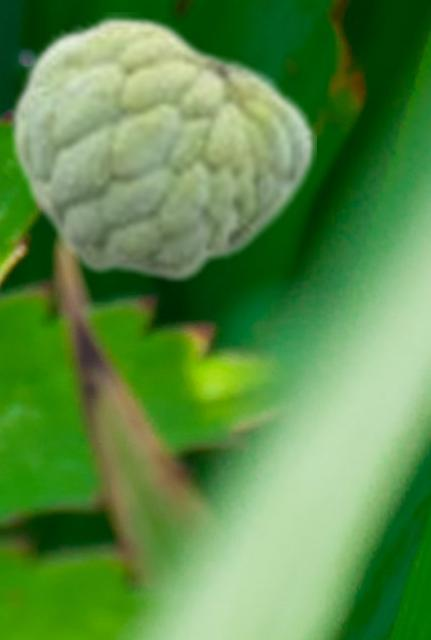atis: (7, 12, 315, 284)
